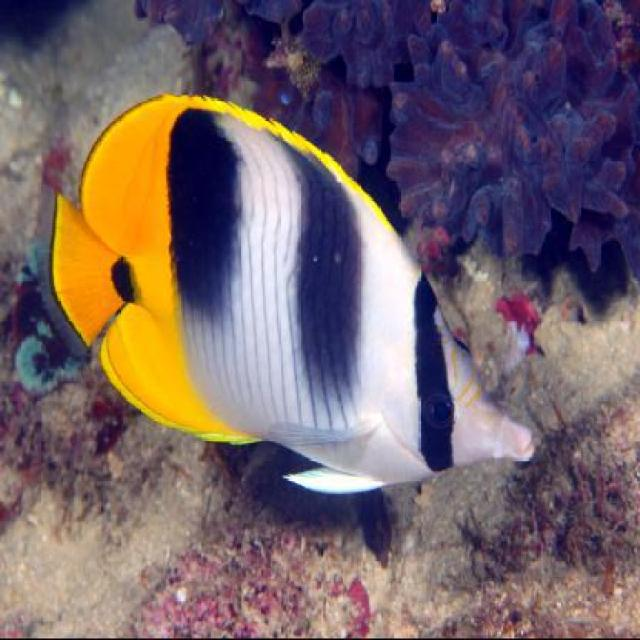ButterflyFish: (56, 96, 533, 498)
